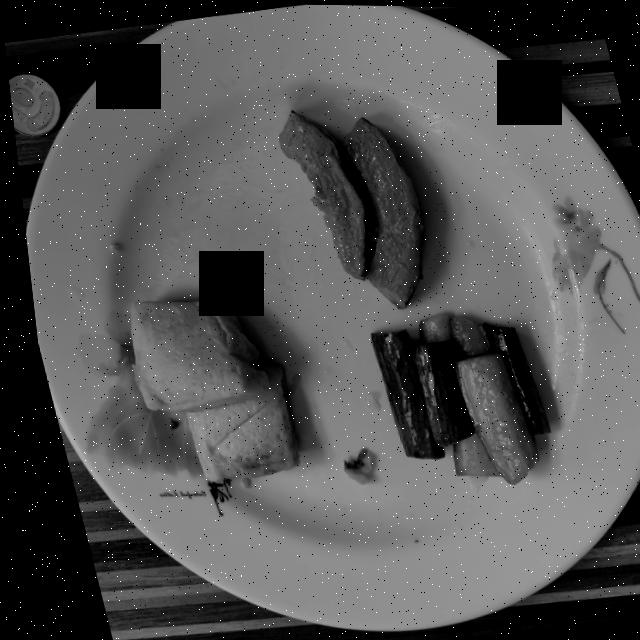coin: (7, 73, 58, 136)
creamy tofu -without sauce-: (123, 299, 289, 481)
cucumber: (363, 312, 540, 482)
pumpkin: (275, 110, 419, 307)
